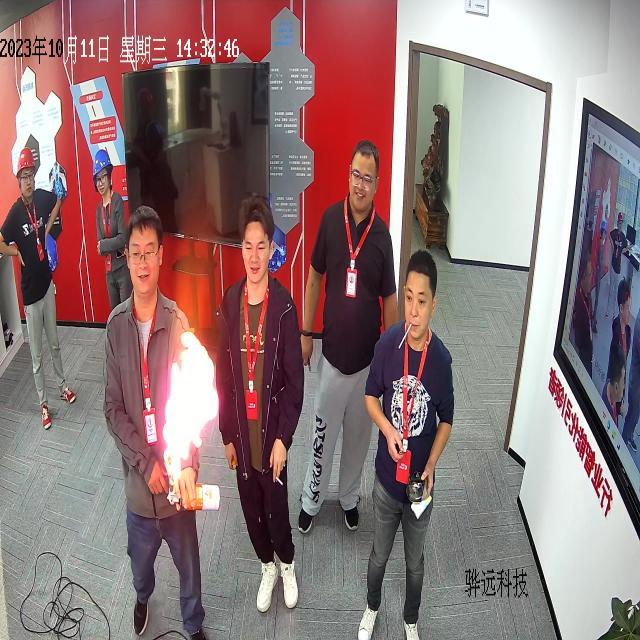Fire: (162, 331, 220, 488)
